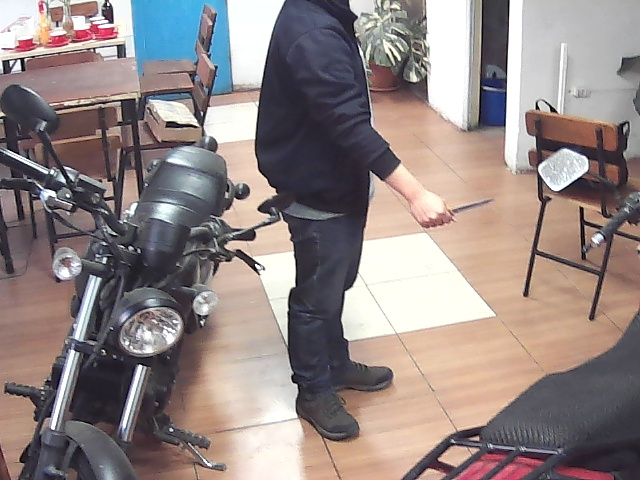cuchillo: (402, 184, 500, 236)
